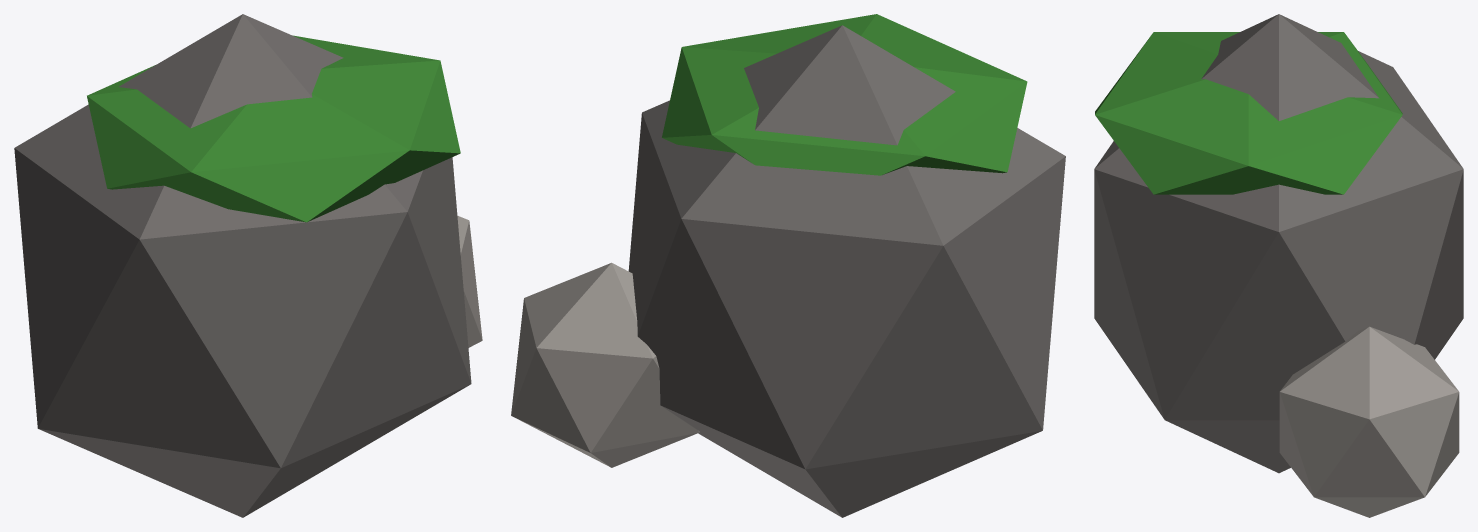
File: rock_3.glb
3 renders of one model, left to right at view 1: azimuth 30°, elevation 25°; view 2: azimuth 150°, elevation 25°; view 3: azimuth 270°, elevation 25°, orthographic. The views are drawn at different scales.
Parts seen in each view (by area): view 1: rock, moss, rock.001; view 2: rock, moss, rock.001; view 3: rock, moss, rock.001.
Part boxes in pixels (box(x1,y1,x2,y2)): rock: box(14, 14, 471, 517); moss: box(87, 35, 460, 222); rock.001: box(457, 215, 482, 347); rock: box(628, 25, 1065, 517); moss: box(662, 14, 1027, 175); rock.001: box(511, 262, 699, 467); rock: box(1094, 14, 1463, 473); moss: box(1095, 32, 1402, 194); rock.001: box(1279, 326, 1459, 517).
Bounding box in the file's own units: 0.6714 × 0.672 × 0.49.
